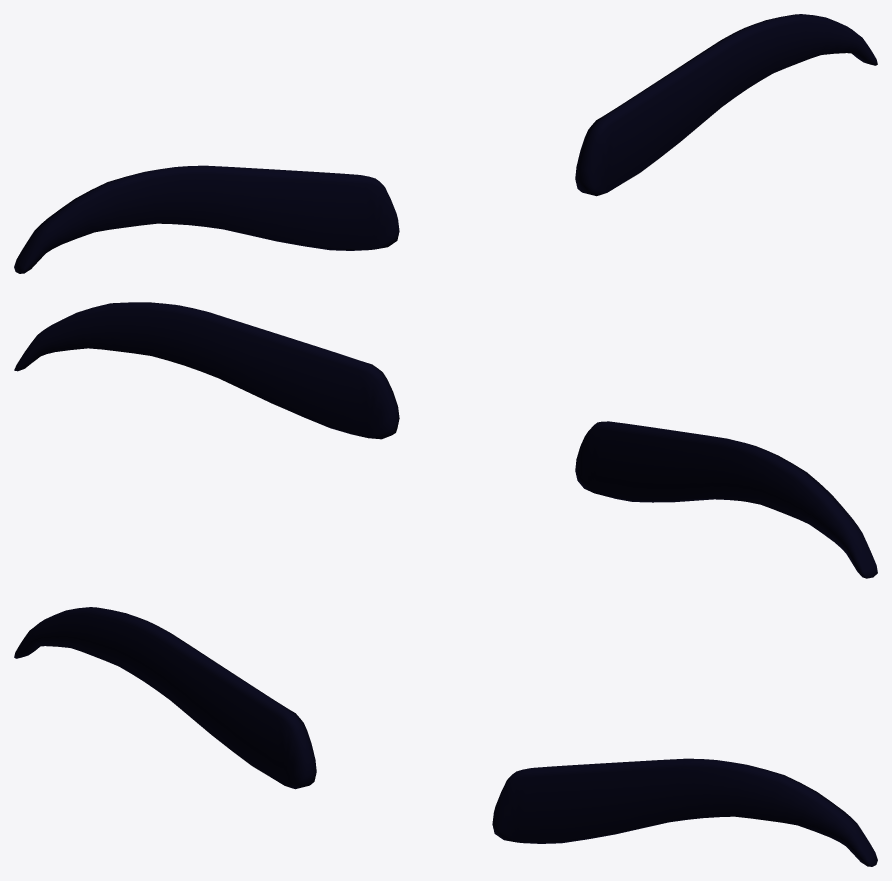
Rendered from eyebrows_tyler.glb.
3 views of the same model, one above another, from view 1: azimuth 30°, elevation 25°; view 2: azimuth 150°, elevation 25°; view 3: azimuth 330°, elevation 25° (orthographic).
Visible parts, largest first — view 1: eyebrows_tyler; view 2: eyebrows_tyler; view 3: eyebrows_tyler.
Part boxes in pixels (<box>): eyebrows_tyler: <box>14,14,877,273</box>; eyebrows_tyler: <box>14,302,877,578</box>; eyebrows_tyler: <box>14,607,877,866</box>.
Size of the model in its own units: 0.25 by 0.0301 by 0.0274.
